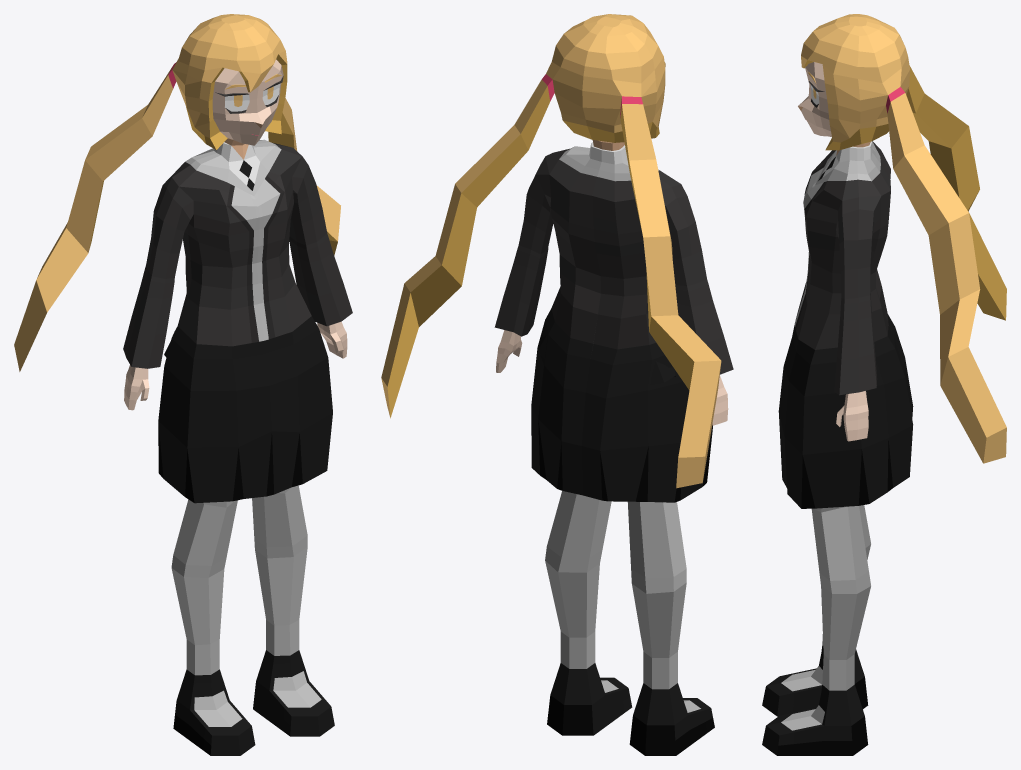
File: Lowpolygirl.fbx
3 views of the same model, side by side, from view 1: azimuth 30°, elevation 25°; view 2: azimuth 150°, elevation 25°; view 3: azimuth 270°, elevation 25° (orthographic). The views are drawn at different scales.
Visible parts, largest first — view 1: Cylinder; view 2: Cylinder; view 3: Cylinder.
Part boxes in pixels (box(x1,y1,x2,y2)): Cylinder: box(14, 14, 352, 755); Cylinder: box(381, 14, 733, 755); Cylinder: box(762, 14, 1006, 755).
Bounding box in the file's own units: 730 × 1552 × 489.
